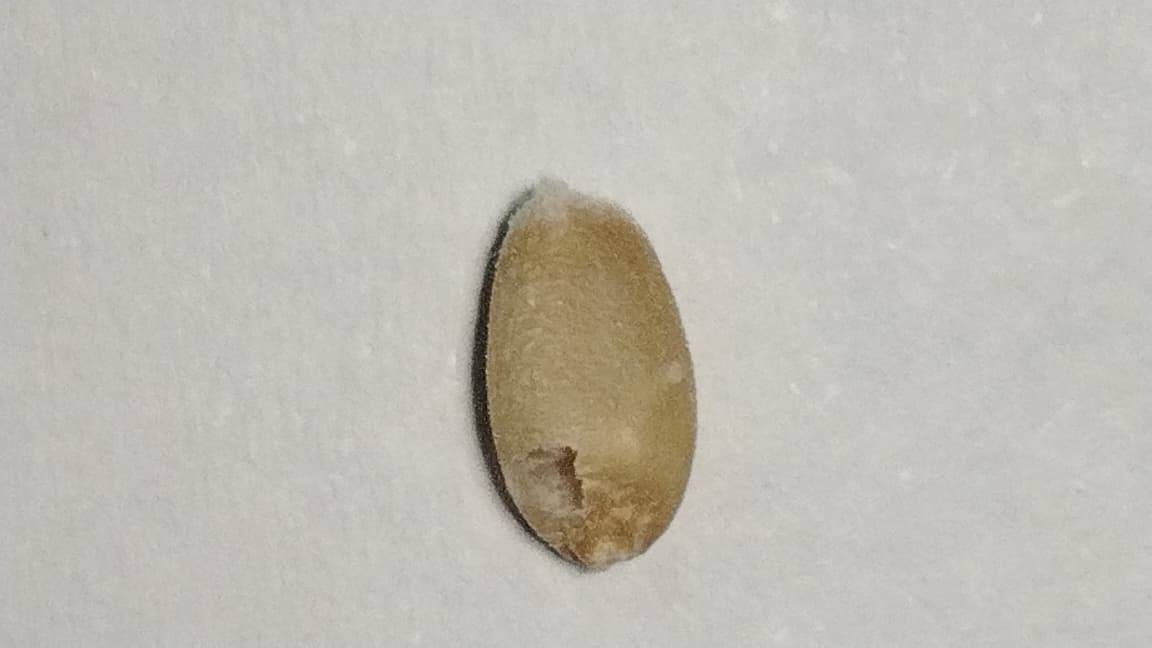damage: (481, 182, 695, 565)
insectdamage: (474, 392, 586, 527)
